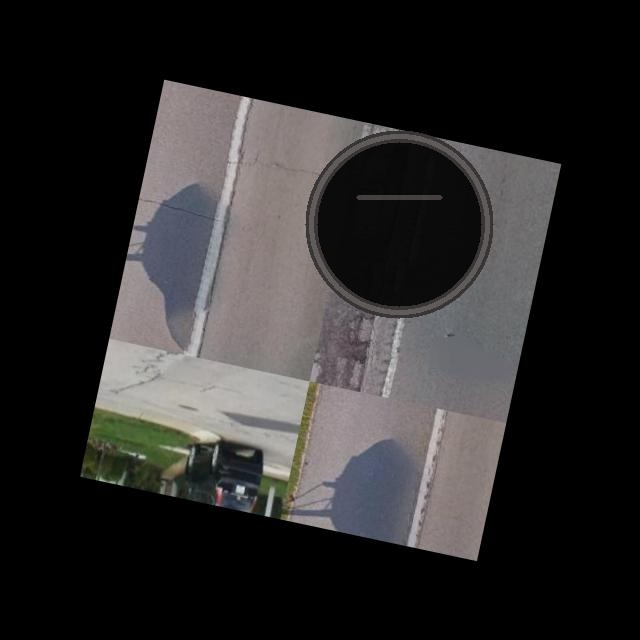open_manhole: (302, 127, 496, 321)
